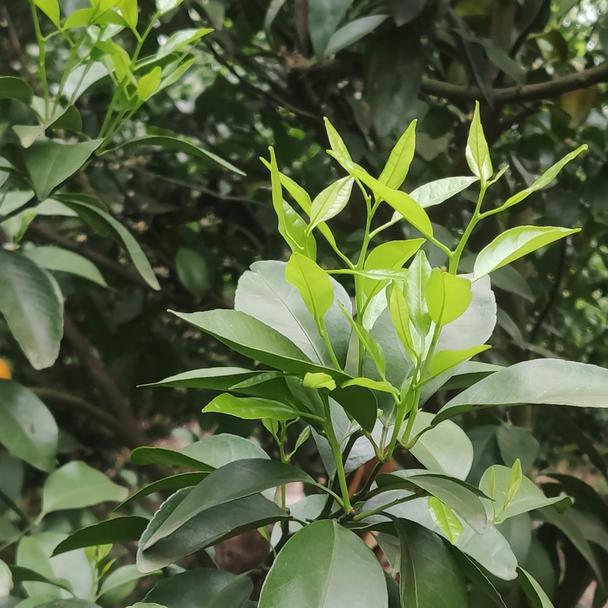shoot: (382, 116, 588, 349), (301, 119, 452, 324), (250, 150, 361, 360)
